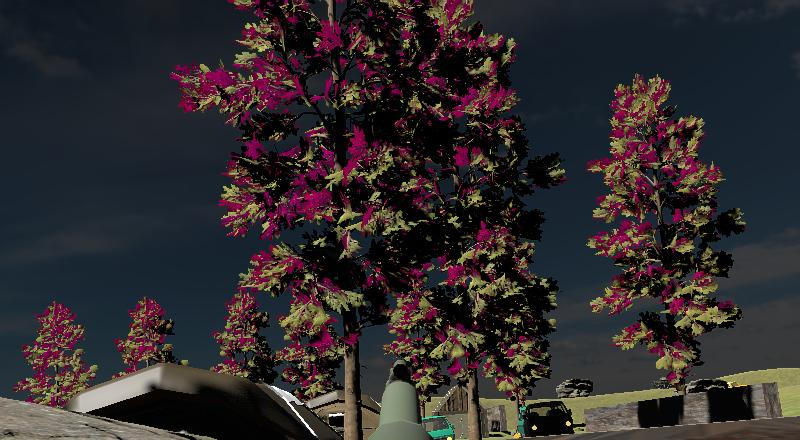car: (517, 397, 574, 440)
